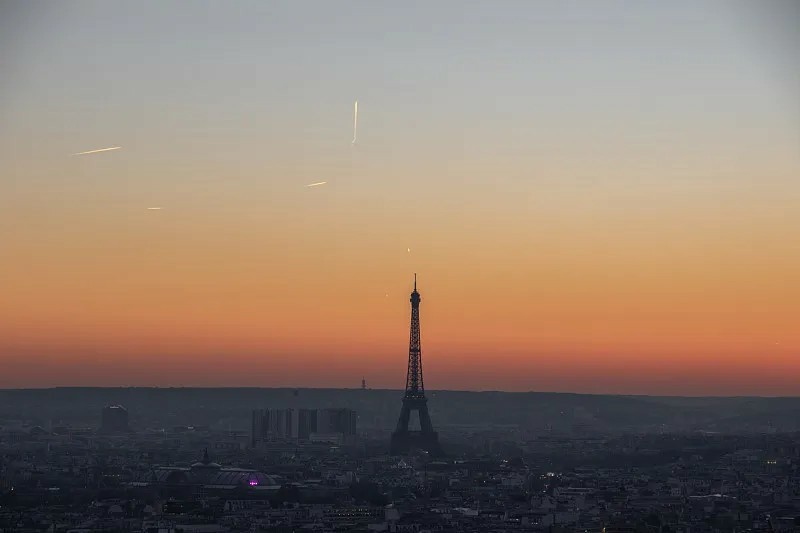Eiffel: (389, 273, 446, 459)
